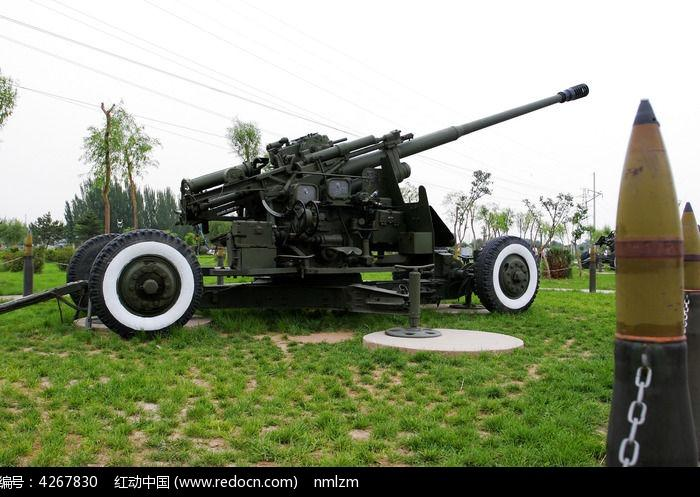MIL_SPG: (69, 83, 589, 336)
